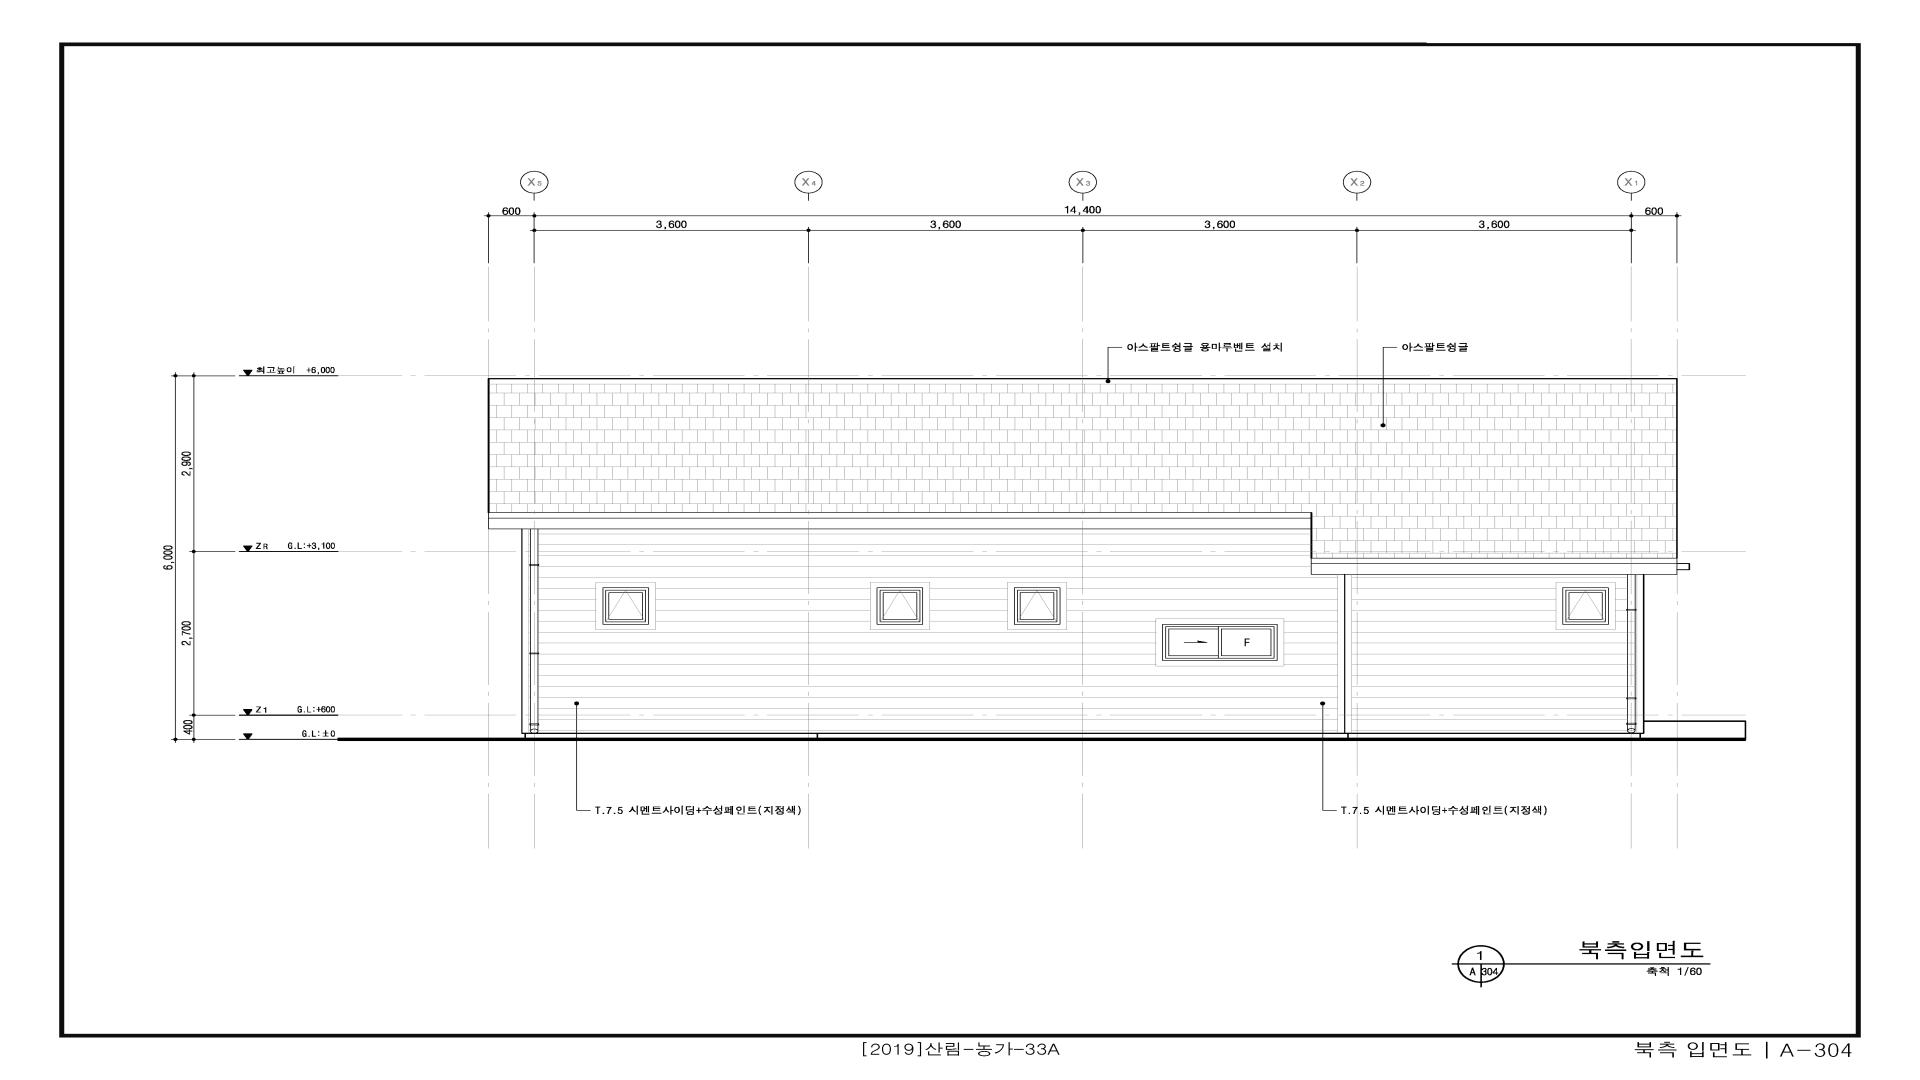wall: (488, 378, 1678, 559), (538, 529, 1345, 734), (1345, 575, 1631, 734), (488, 513, 1310, 529), (1311, 558, 1677, 575), (524, 734, 1349, 738), (1631, 575, 1644, 734), (1641, 720, 1746, 738), (521, 529, 530, 734), (1349, 734, 1641, 738), (1677, 563, 1690, 570)
window: (1156, 619, 1284, 666), (596, 582, 656, 630), (870, 582, 930, 630), (1007, 582, 1067, 630), (1556, 582, 1615, 630)
